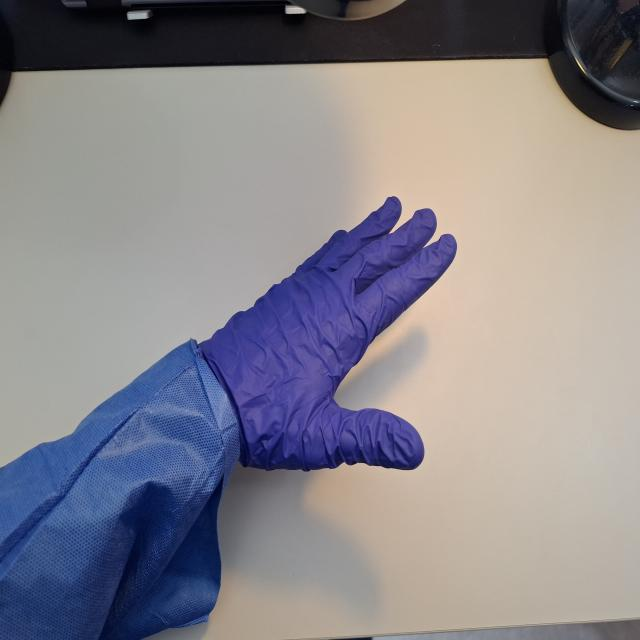glove_on: (198, 192, 459, 473)
